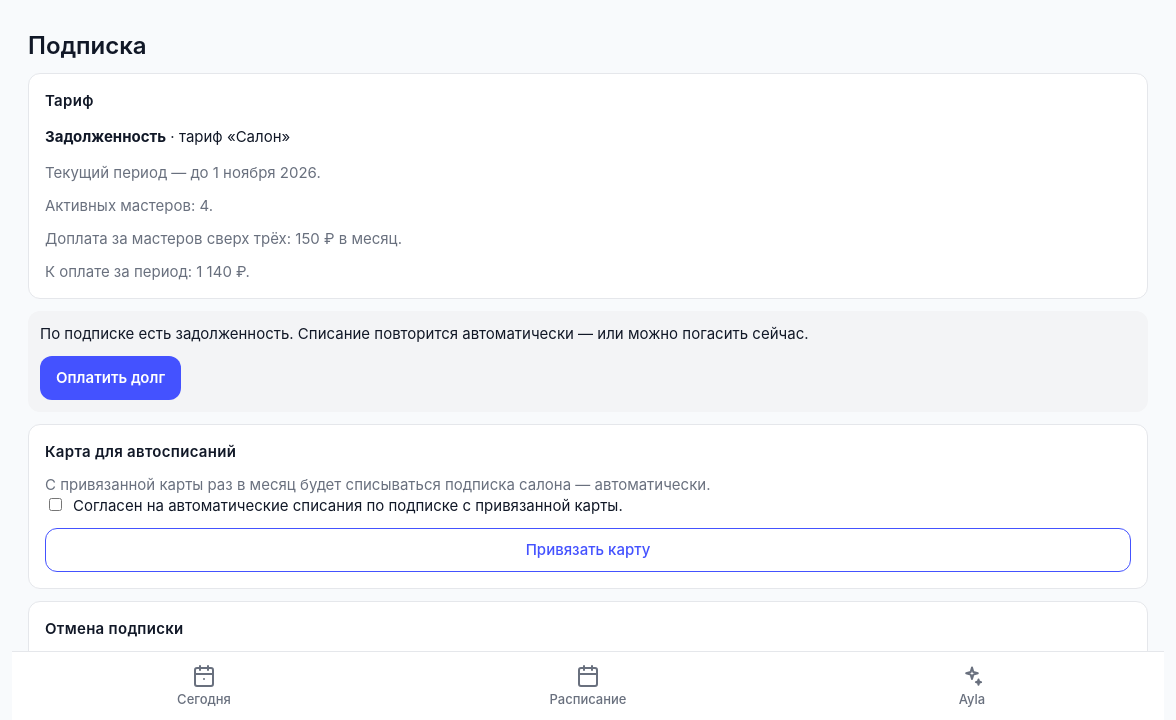
Test case: заморозка и долг › списания выключены — честно говорит, что оплата не подключена
Click the button "Оплатить долг".
click(111, 378)  # box [40,356,181,400]
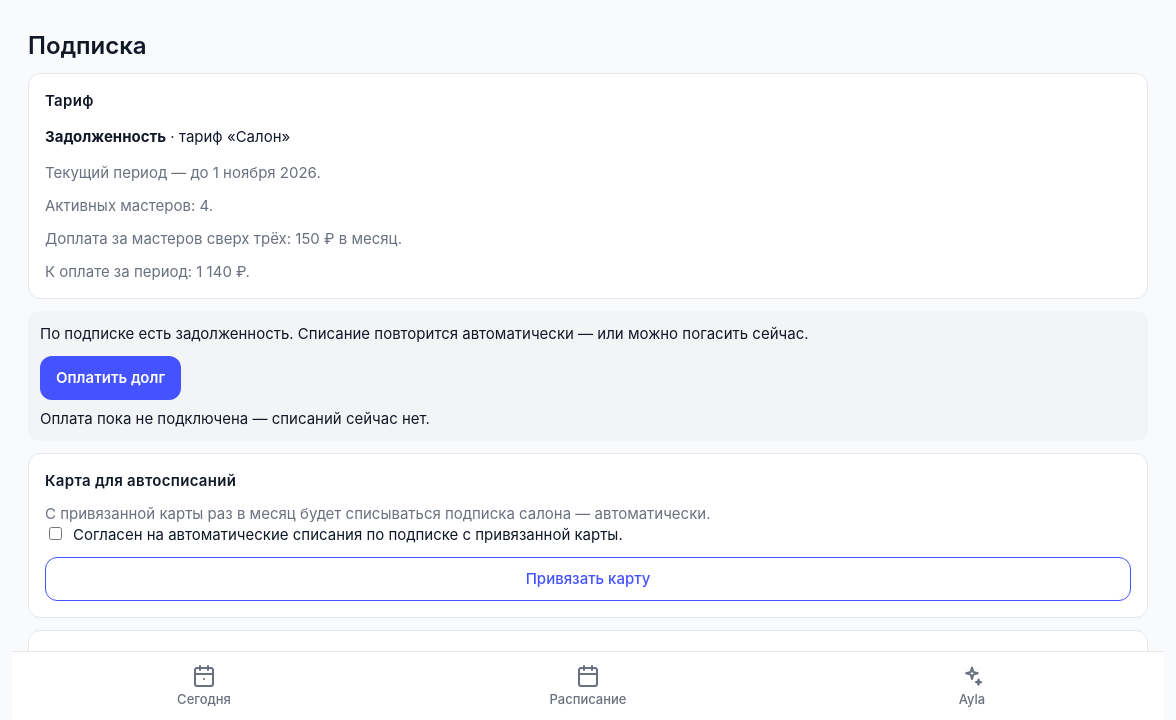
Result: the message reads "Оплата пока не подключена — списаний сейчас нет." at [40,409,430,428]
